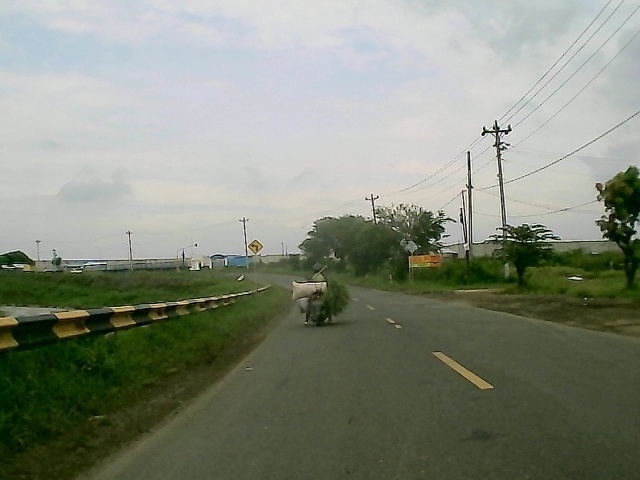Tikungan tajam ke kiri: (246, 239, 266, 256)
